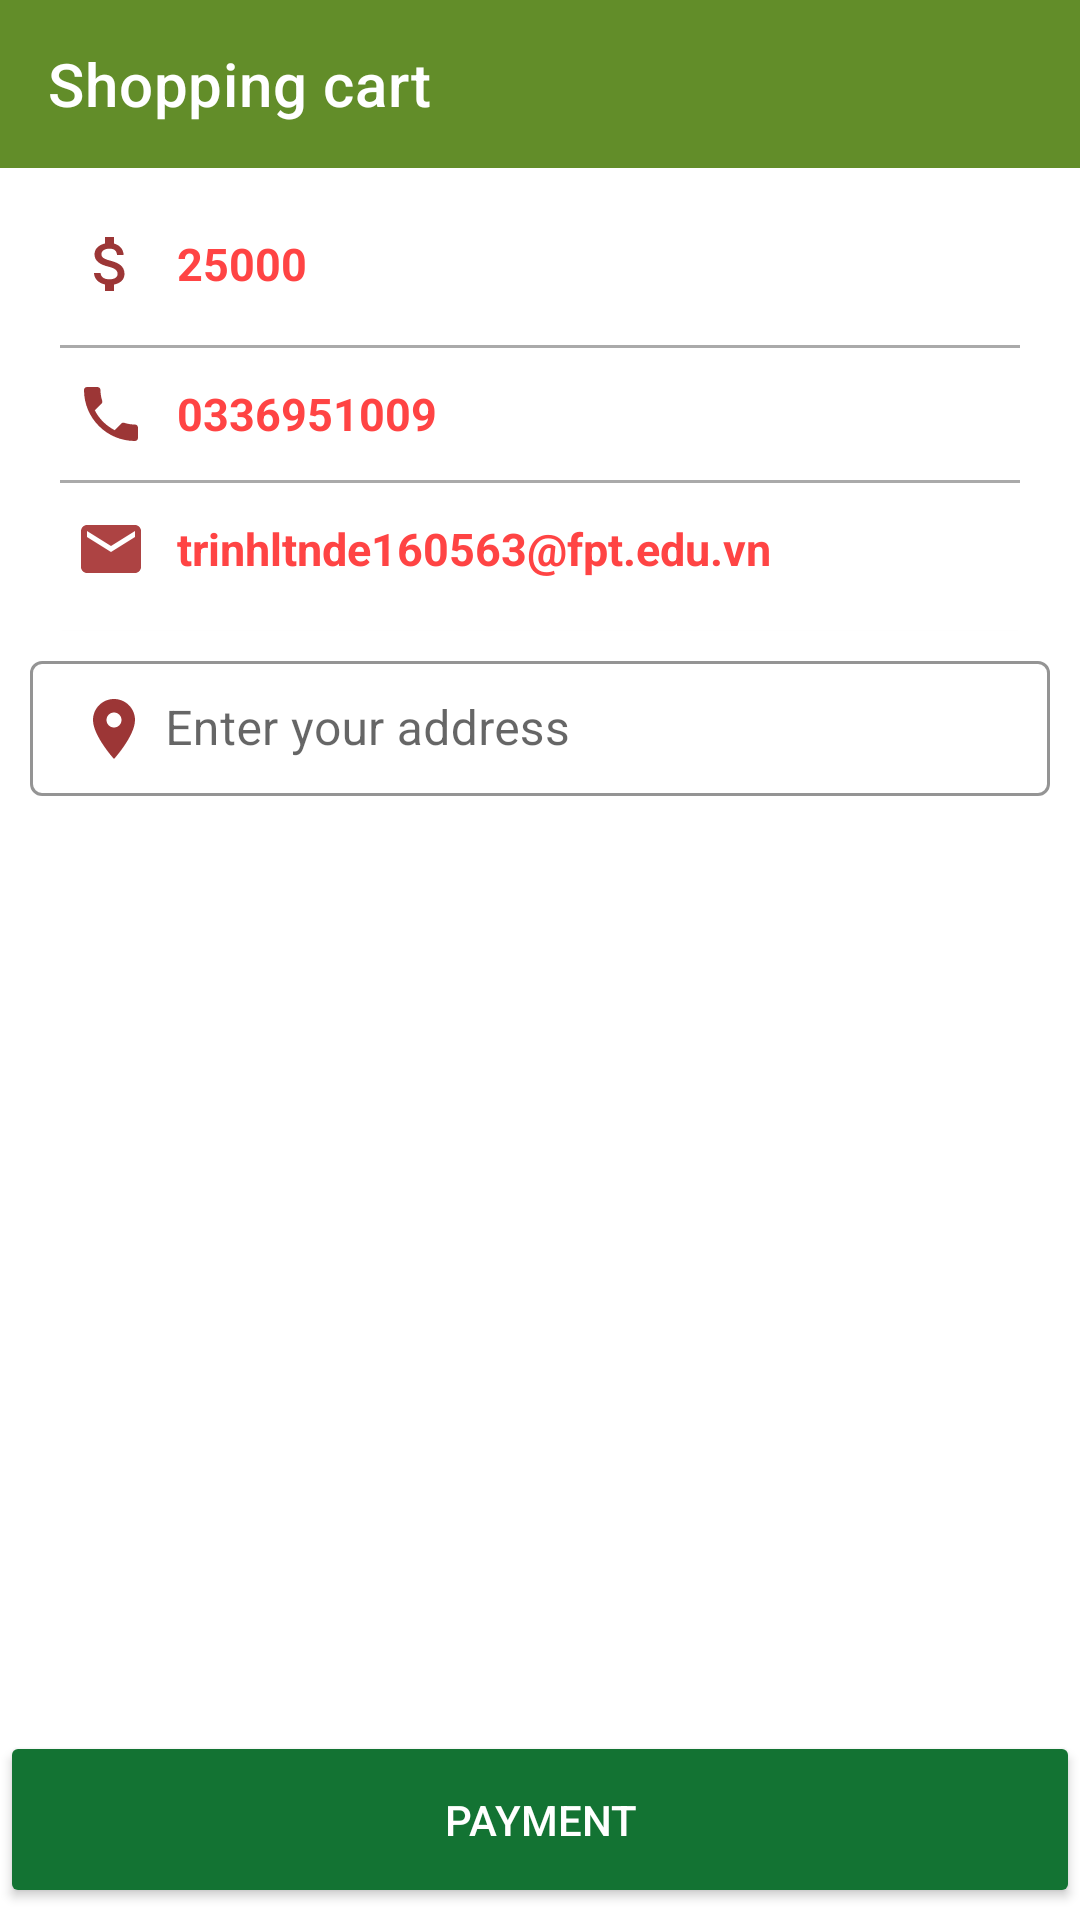

Icon click points for this 1080*1920 phone screenshot, format (x,y):
attach money: (109,264)
email: (111,549)
phone: (111,414)
